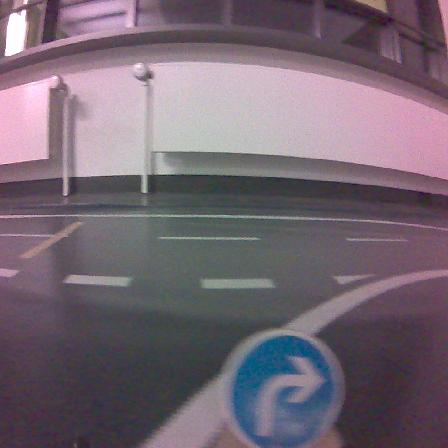RIGHT_TURN: (222, 330, 343, 447)
